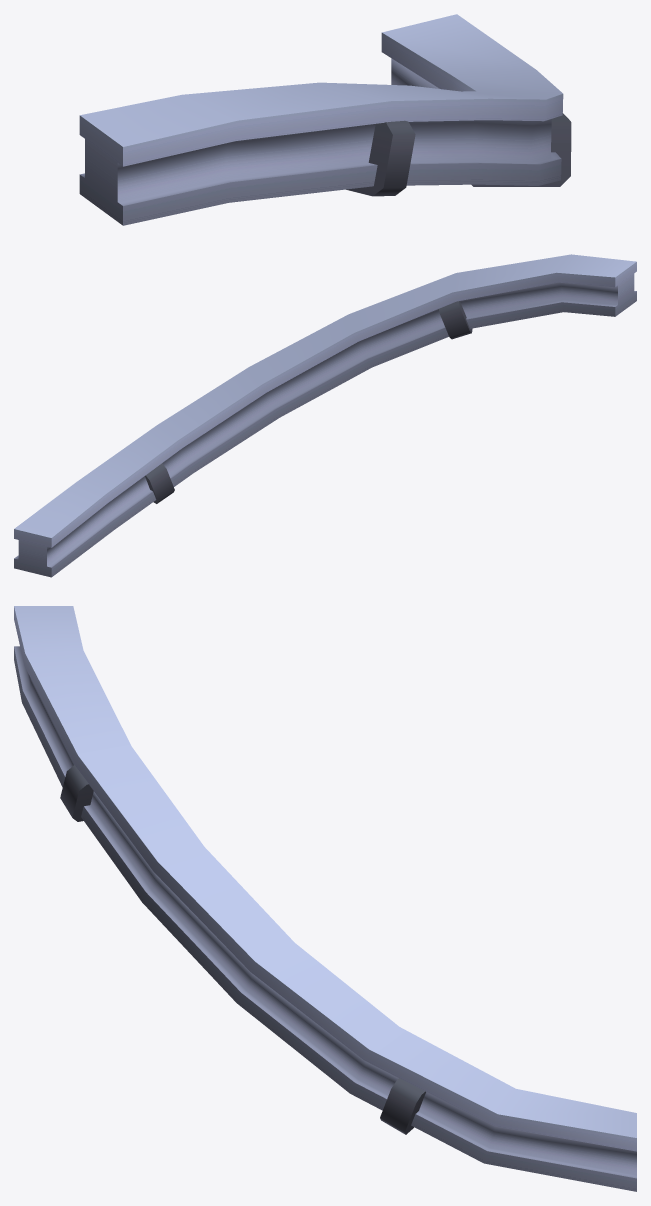
The model's file is coaster-monorail-corner-small-ramp.glb.
The picture shows the model from 3 angles, top to bottom: view 1: azimuth 30°, elevation 25°; view 2: azimuth 150°, elevation 25°; view 3: azimuth 270°, elevation 25°; orthographic projection. The views are drawn at different scales.
Visible parts, largest first — view 1: coaster-monorail-corner-small-ramp; view 2: coaster-monorail-corner-small-ramp; view 3: coaster-monorail-corner-small-ramp.
Part boxes in pixels (<box>): coaster-monorail-corner-small-ramp: <box>79,14,571,225</box>; coaster-monorail-corner-small-ramp: <box>14,254,636,577</box>; coaster-monorail-corner-small-ramp: <box>14,606,636,1191</box>.
Size of the model in its own units: 2.1 by 1.2 by 2.1.
Materials: 1 (1 with a texture image).
